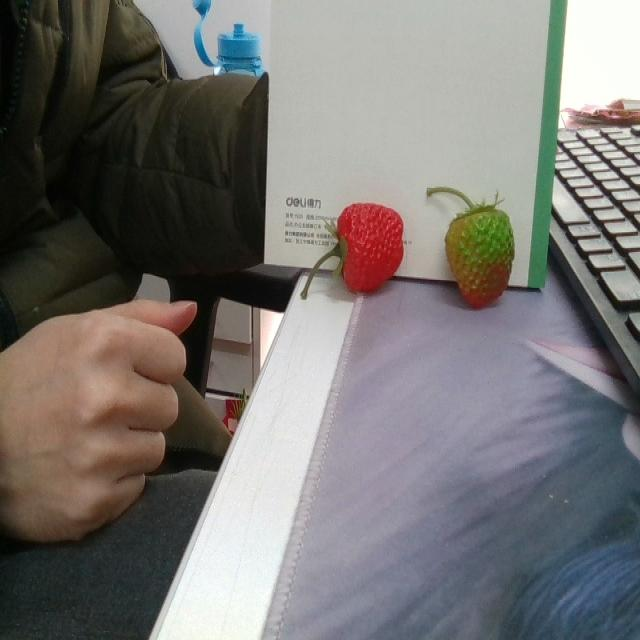immature: (446, 202, 515, 307)
mature: (338, 201, 403, 291)
